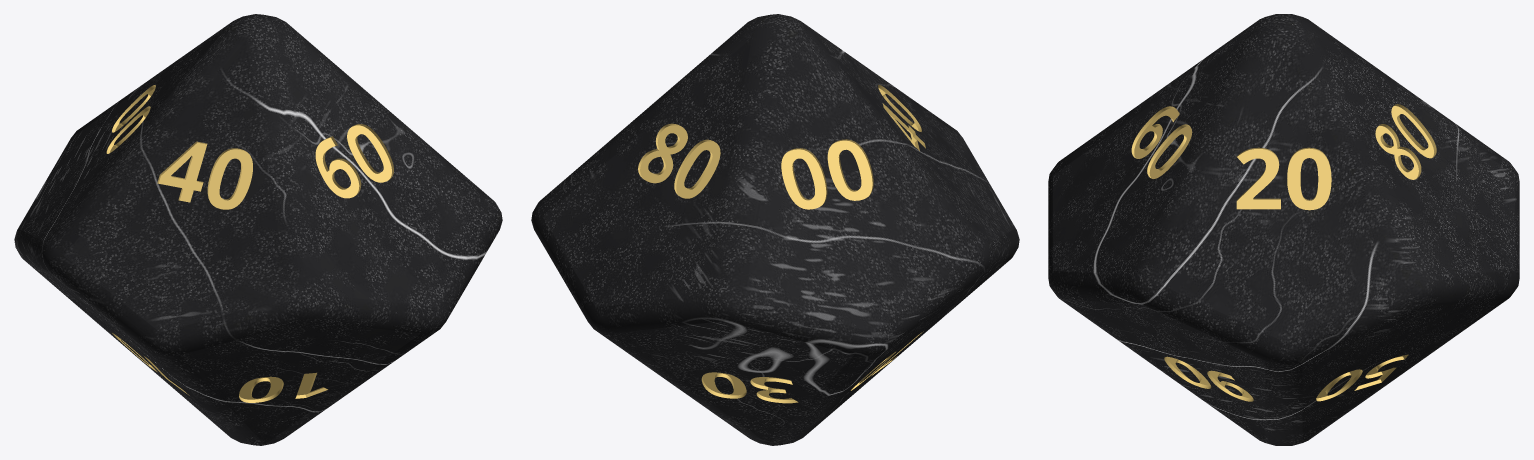
3 renders of one model, left to right at view 1: azimuth 30°, elevation 25°; view 2: azimuth 150°, elevation 25°; view 3: azimuth 270°, elevation 25°, orthographic.
Parts seen in each view (by area): view 1: body.001; view 2: body.001; view 3: body.001.
Part boxes in pixels (x1,y1,x2,y2): body.001: (14, 14, 502, 445); body.001: (531, 14, 1019, 445); body.001: (1048, 14, 1519, 445).
Size of the model in its own units: 0.9493 by 0.8964 by 0.9076.
Materials: 2 (1 with a texture image).
